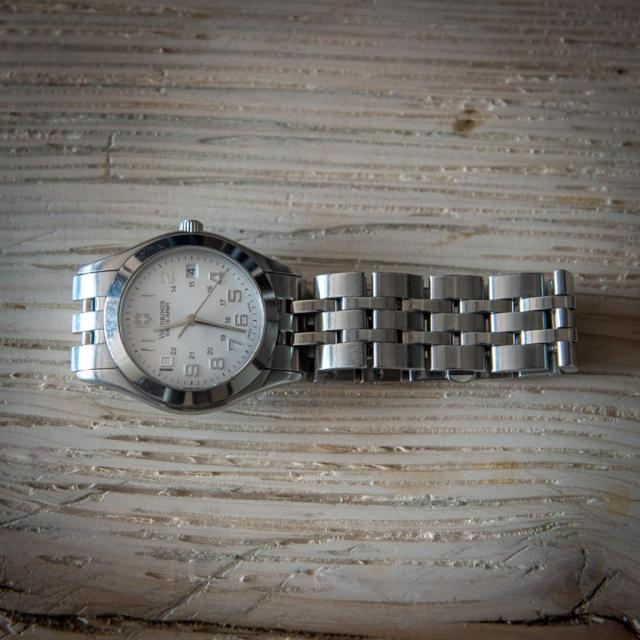Wrist watch: (66, 218, 580, 414)
